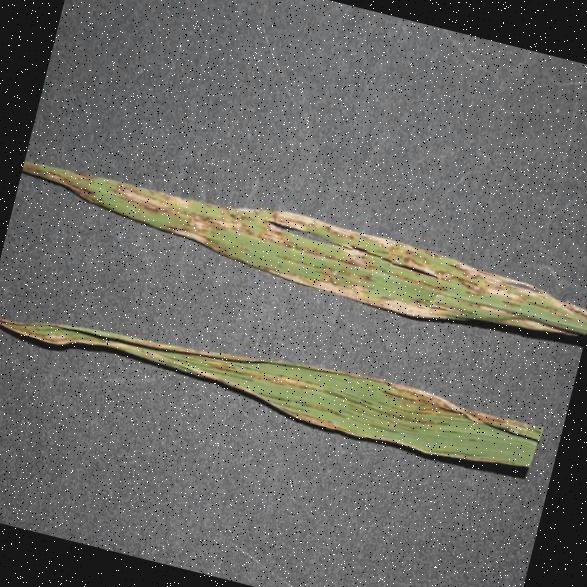Bacteria_Leaf_Blight: (47, 142, 587, 355), (38, 279, 539, 451)
